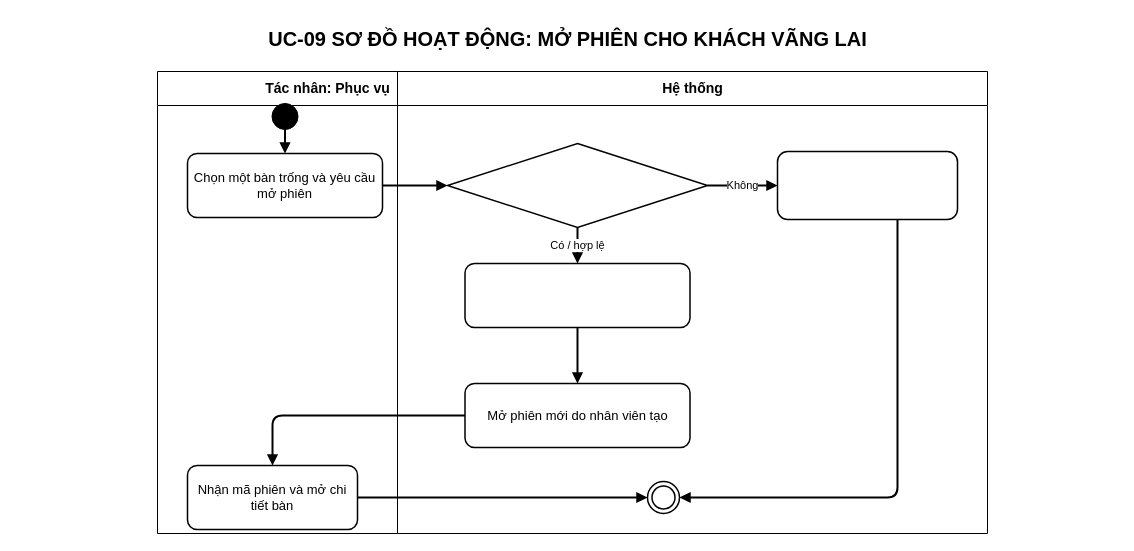
The diagram is 1134 pixels wide and 551 high, and some of its shapes have lost their labels. The shapes that lost their labels are listed below. From the top down, each one's centre as x and y in pixels, then its label:
At pixel 577 185: "Bàn tồn tại và chưa có phiên?".
At pixel 867 185: "Báo bàn không hợp lệ hoặc đang được sử dụng".
At pixel 577 295: "Lấy mã QR đang dùng của bàn và cấp quyền truy cập phiên".
